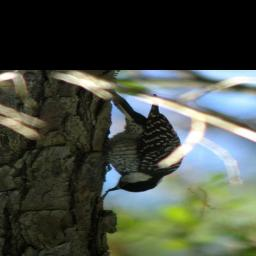Woodpecker: (102, 90, 185, 193)
